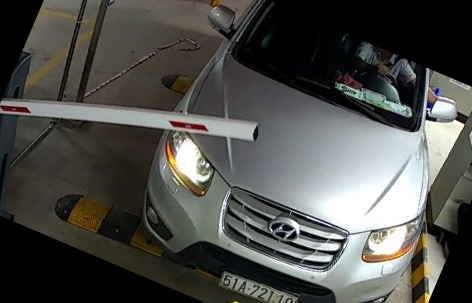plate: (217, 265, 298, 303)
